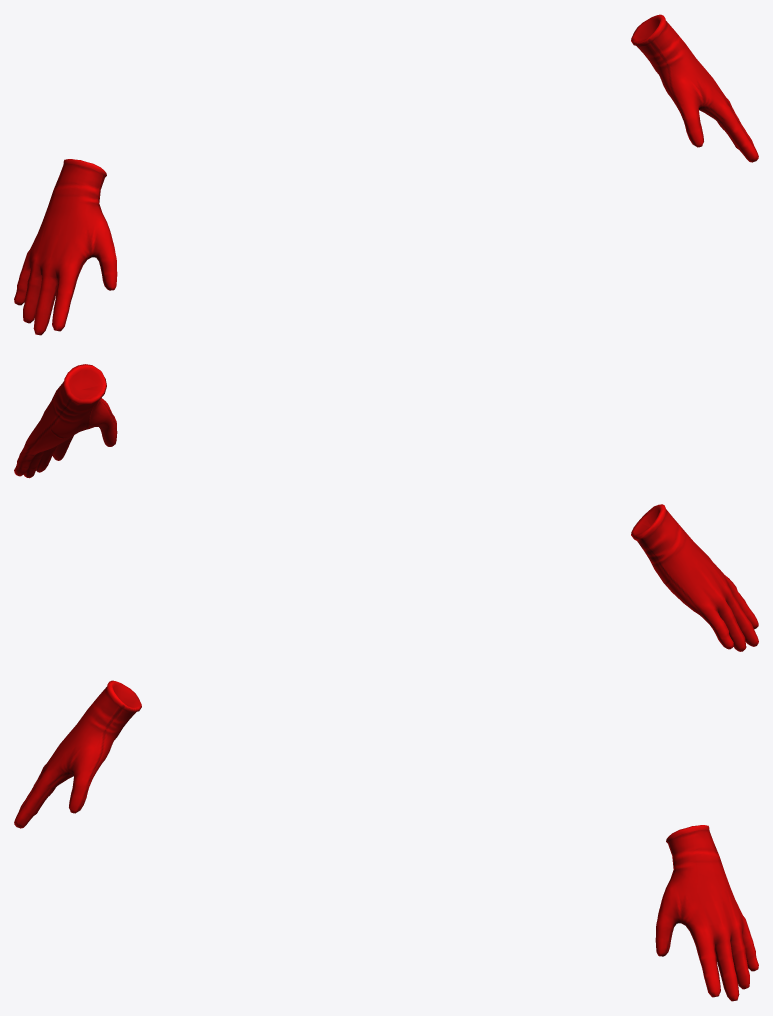
Rendered from Outfit_Gloves_SleekGloves.obj.
3 renders of one model, top to bottom at view 1: azimuth 30°, elevation 25°; view 2: azimuth 150°, elevation 25°; view 3: azimuth 330°, elevation 25°, orthographic.
Parts seen in each view (by area): view 1: Outfit_Gloves_SleekGloves_0; view 2: Outfit_Gloves_SleekGloves_0; view 3: Outfit_Gloves_SleekGloves_0.
Boxes of the visible parts, bbox=[...] form: Outfit_Gloves_SleekGloves_0: bbox=[14, 14, 758, 335]; Outfit_Gloves_SleekGloves_0: bbox=[14, 364, 758, 651]; Outfit_Gloves_SleekGloves_0: bbox=[14, 680, 758, 1001].
Bounding box in the file's own units: 1.06 × 0.1963 × 0.1354.
Materials: 1 (1 with a texture image).
